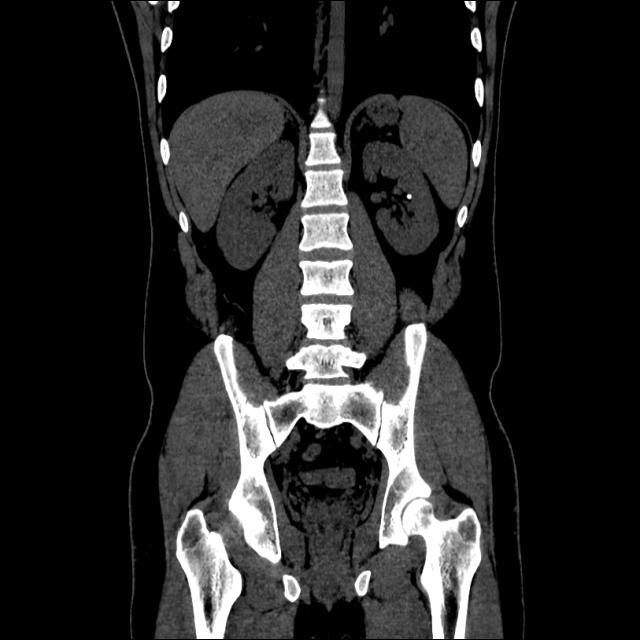kidney: (211, 143, 296, 269), (359, 138, 440, 260)
stone: (406, 193, 413, 200)
